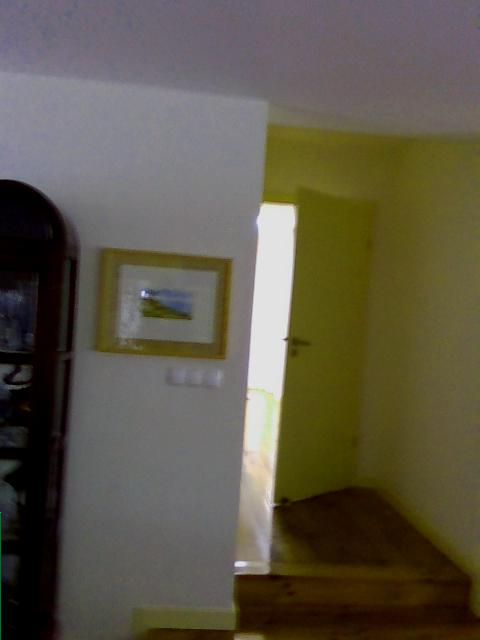semi_door: (236, 182, 382, 506)
